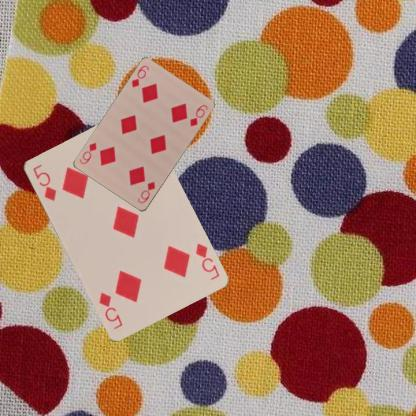5d: (192, 240, 221, 282), (30, 162, 57, 202)
6d: (135, 179, 157, 205), (129, 63, 150, 89)
